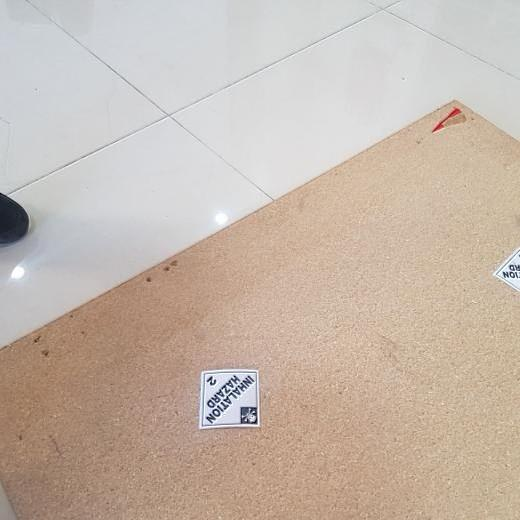poison: (200, 369, 262, 430)
